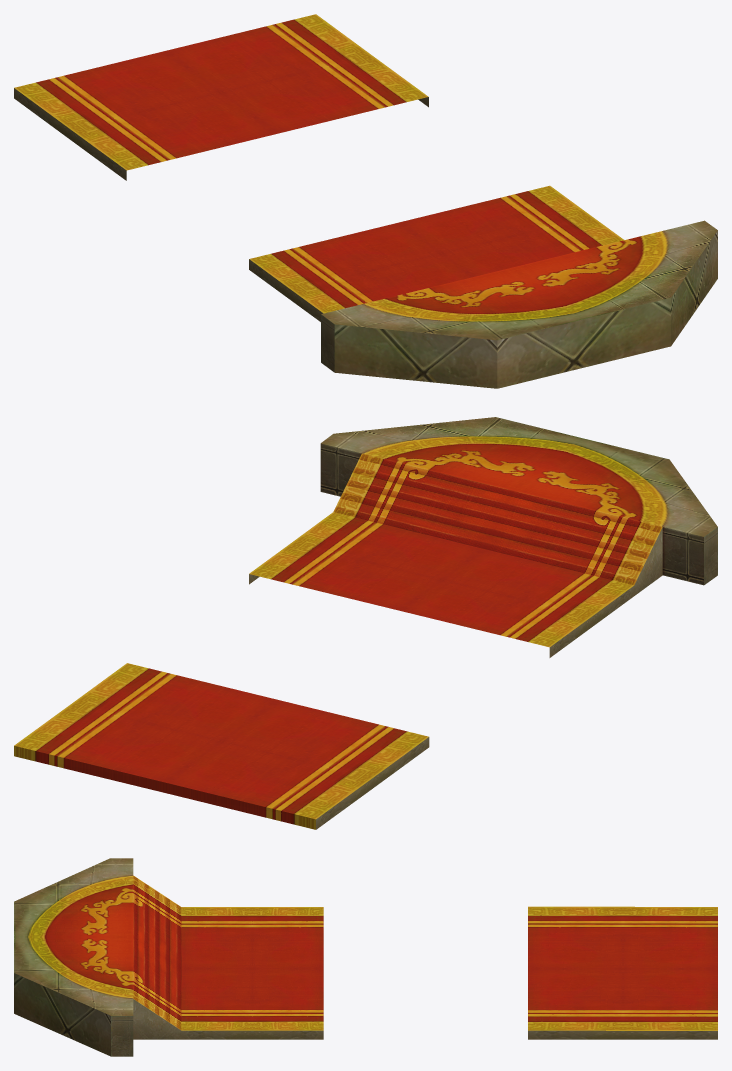
File: Stage_JingJiChang_DiTan01.FBX
The picture shows the model from 3 angles, top to bottom: view 1: azimuth 30°, elevation 25°; view 2: azimuth 150°, elevation 25°; view 3: azimuth 270°, elevation 25°; orthographic projection. The views are drawn at different scales.
Visible parts, largest first — view 1: Stage_JingJiChang_DiTan01; view 2: Stage_JingJiChang_DiTan01; view 3: Stage_JingJiChang_DiTan01.
Part boxes in pixels (x1,y1,x2,y2): Stage_JingJiChang_DiTan01: [14, 14, 717, 388]; Stage_JingJiChang_DiTan01: [14, 417, 717, 829]; Stage_JingJiChang_DiTan01: [14, 858, 717, 1056].
Size of the model in its own units: 2030 by 245 by 3832.
